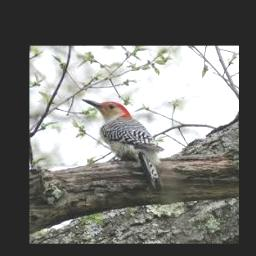Woodpecker: (81, 98, 164, 189)
